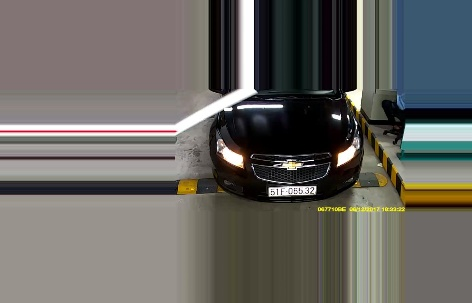plate: (263, 182, 322, 200)
